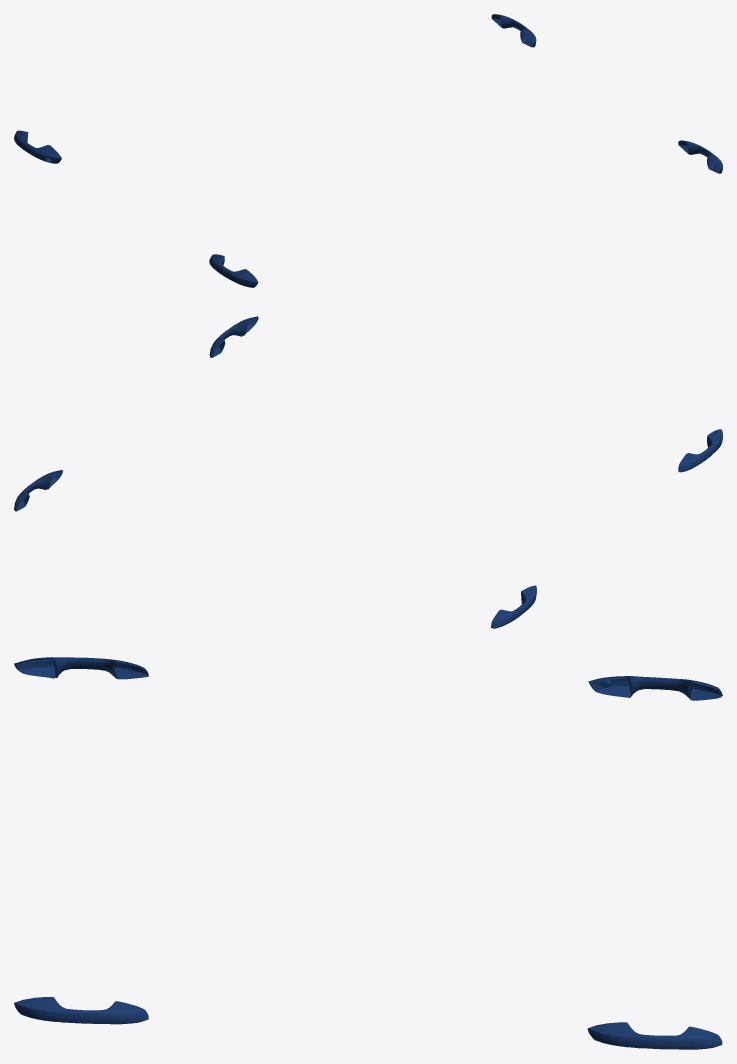
The model's file is dhl.glb.
The picture shows the model from 3 angles, top to bottom: view 1: azimuth 30°, elevation 25°; view 2: azimuth 150°, elevation 25°; view 3: azimuth 270°, elevation 25°; orthographic projection. The views are drawn at different scales.
Parts seen in each view (by area): view 1: DHL; view 2: DHL; view 3: DHL.
Part boxes in pixels (left/top/right/bottom): DHL: left=14, top=14, right=722, bottom=287; DHL: left=14, top=316, right=722, bottom=628; DHL: left=14, top=657, right=722, bottom=1049.
Bounding box in the file's own units: 1.7 × 0.1023 × 1.4.
